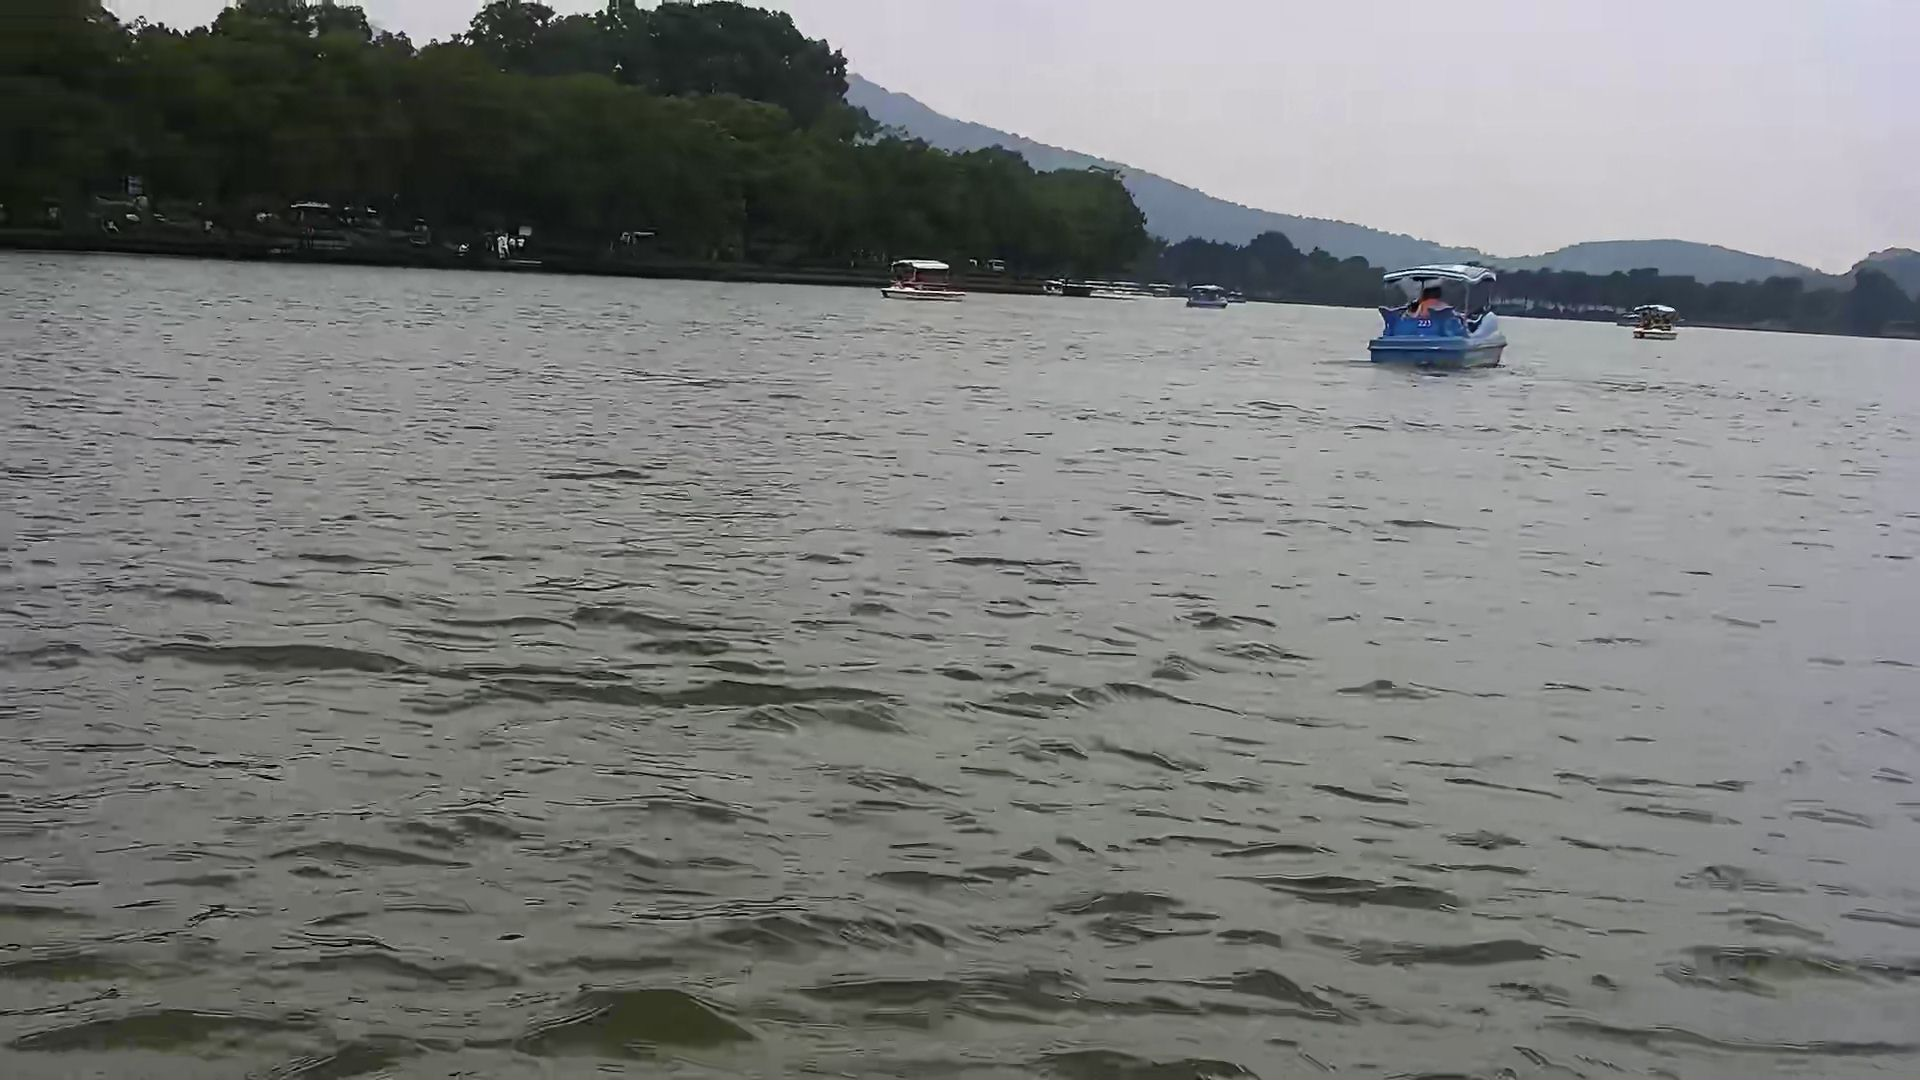boat: (1365, 262, 1510, 367), (880, 253, 967, 302), (1631, 301, 1683, 344), (1185, 281, 1232, 309)
